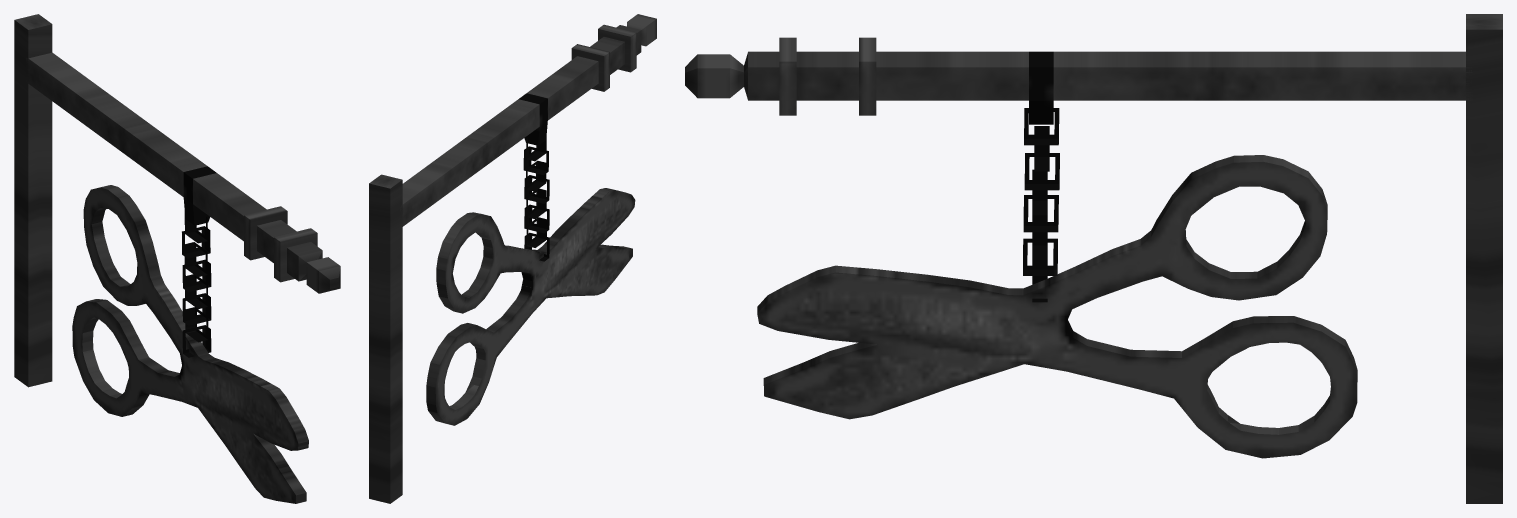
The model's file is Sign_361x5.obj.
3 views of the same model, side by side, from view 1: azimuth 30°, elevation 25°; view 2: azimuth 150°, elevation 25°; view 3: azimuth 270°, elevation 25° (orthographic). The views are drawn at different scales.
Parts seen in each view (by area): view 1: Sign_361x5; view 2: Sign_361x5; view 3: Sign_361x5.
Boxes of the visible parts, x1,y1,x2,y2 form: Sign_361x5: (14, 14, 340, 503); Sign_361x5: (369, 14, 656, 503); Sign_361x5: (685, 14, 1502, 503).
Bounding box in the file's own units: 0.1274 × 1.17 × 1.83.
